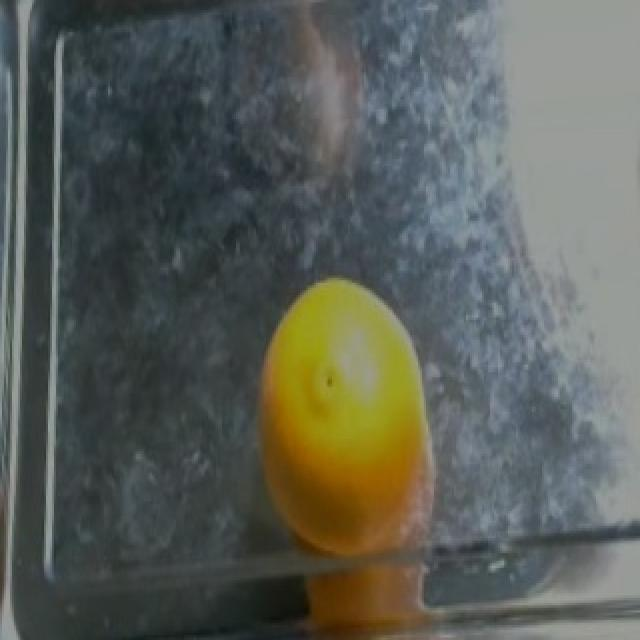Fruit: (250, 260, 446, 593), (268, 538, 464, 640)
